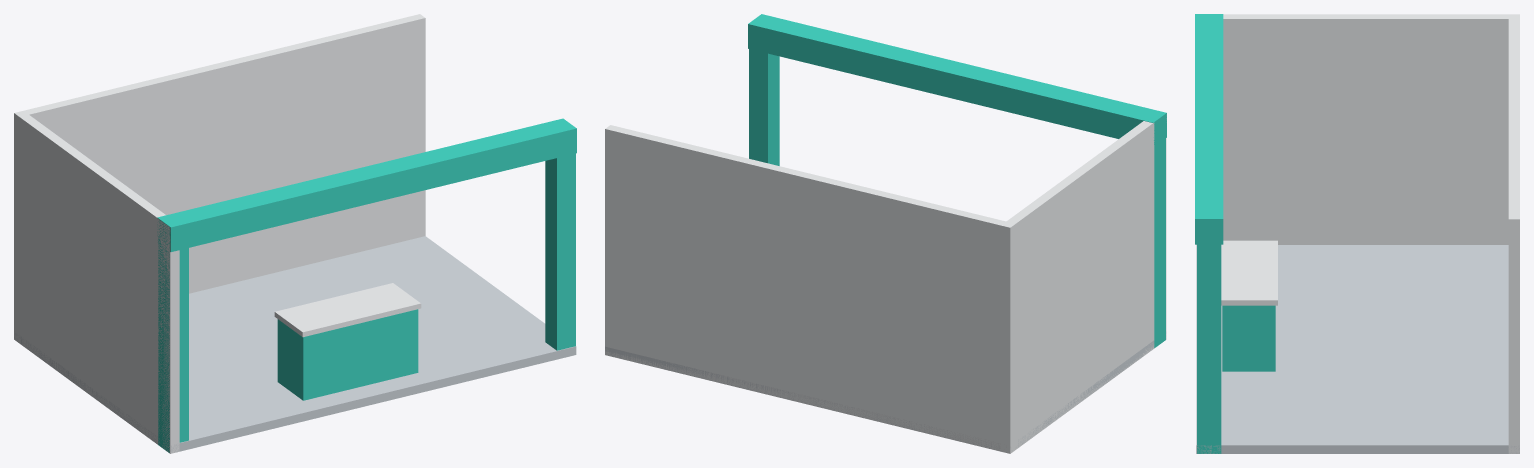
3 renders of one model, left to right at view 1: azimuth 30°, elevation 25°; view 2: azimuth 150°, elevation 25°; view 3: azimuth 270°, elevation 25°, orthographic. The views are drawn at different scales.
Visible parts, largest first — view 1: Exhibition Booth Concept; view 2: Exhibition Booth Concept; view 3: Exhibition Booth Concept.
Boxes of the visible parts, <box> form: Exhibition Booth Concept: <box>14,14,576,453</box>; Exhibition Booth Concept: <box>605,14,1166,453</box>; Exhibition Booth Concept: <box>1195,14,1519,453</box>.
Bounding box in the file's own units: 6 × 3.2 × 4.02.
